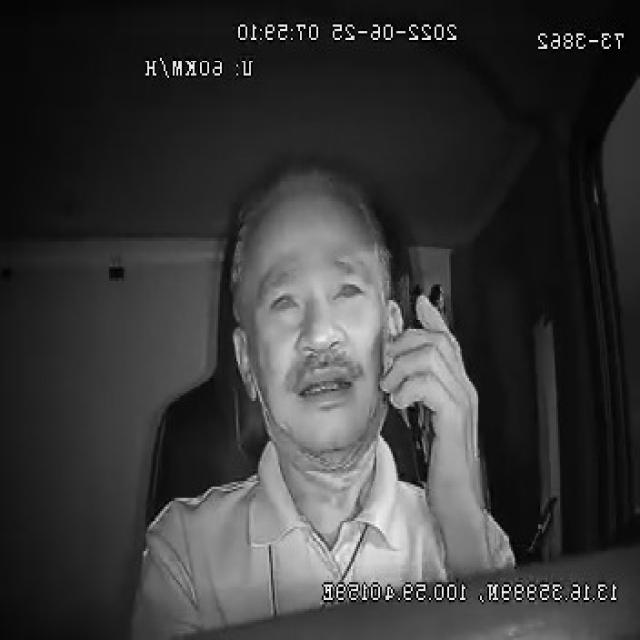phone: (402, 277, 451, 489)
